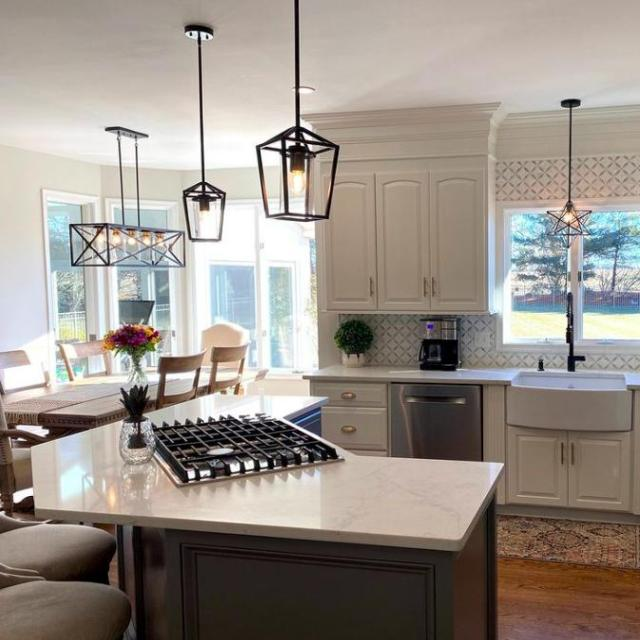dishwasher: (387, 380, 482, 465)
